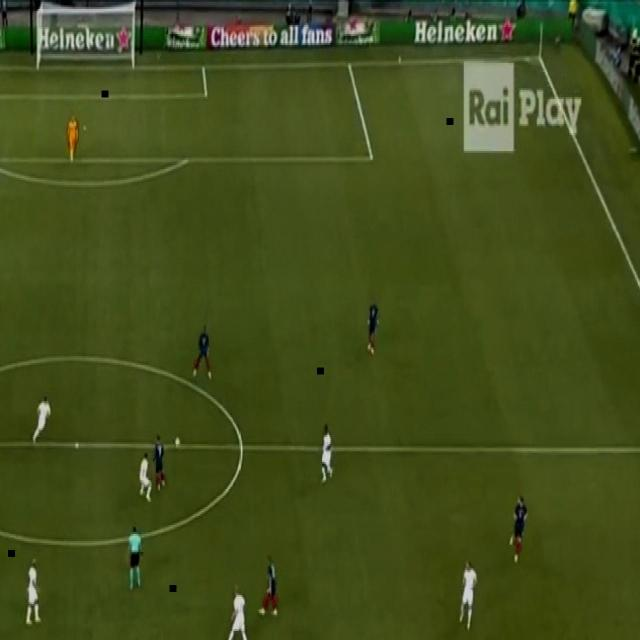ball: (174, 437, 182, 450)
player-white: (222, 582, 249, 640), (508, 494, 529, 568), (257, 551, 279, 619), (458, 557, 478, 631), (192, 320, 213, 384), (125, 525, 144, 592), (24, 557, 41, 629), (31, 394, 53, 446), (320, 422, 334, 488), (138, 451, 154, 504), (152, 433, 166, 492), (366, 300, 380, 358), (66, 113, 79, 164)
